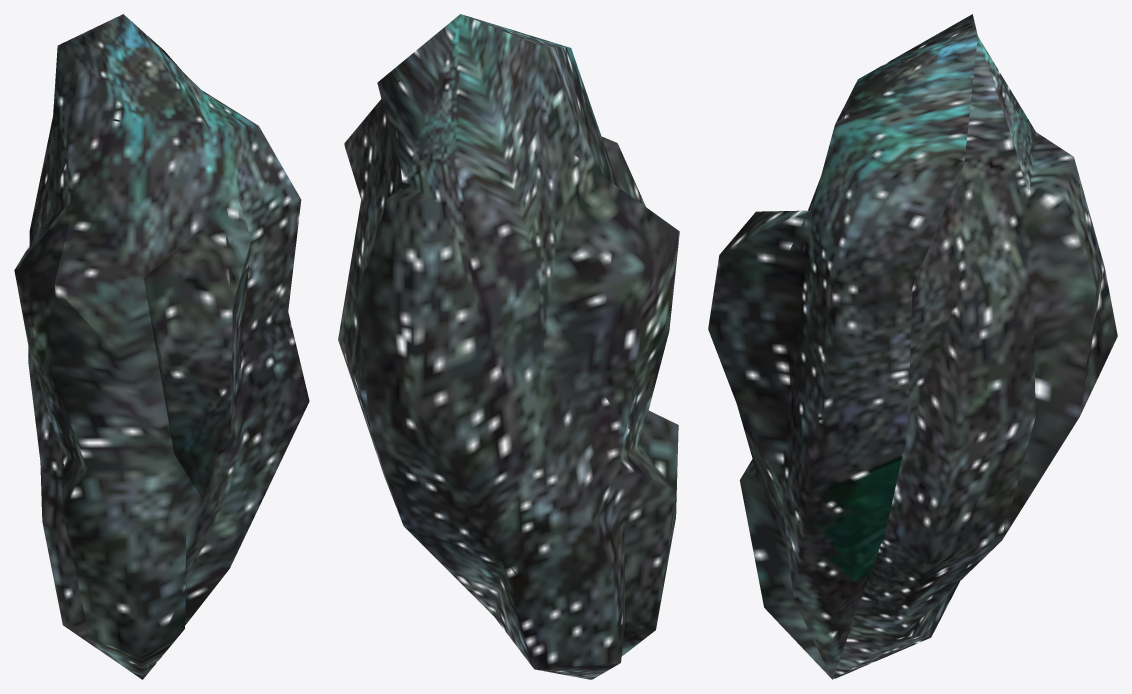
Rendered from 5st_cliff_hom05.glb.
3 views of the same model, side by side, from view 1: azimuth 30°, elevation 25°; view 2: azimuth 150°, elevation 25°; view 3: azimuth 270°, elevation 25° (orthographic). The views are drawn at different scales.
Visible parts, largest first — view 1: cliff_hom05; view 2: cliff_hom05; view 3: cliff_hom05.
Part boxes in pixels (x1,y1,x2,y2): cliff_hom05: [14, 14, 309, 679]; cliff_hom05: [338, 14, 679, 679]; cliff_hom05: [708, 14, 1117, 679].
Bounding box in the file's own units: 6.8 × 15 × 8.33.
Materials: 1 (1 with a texture image).
